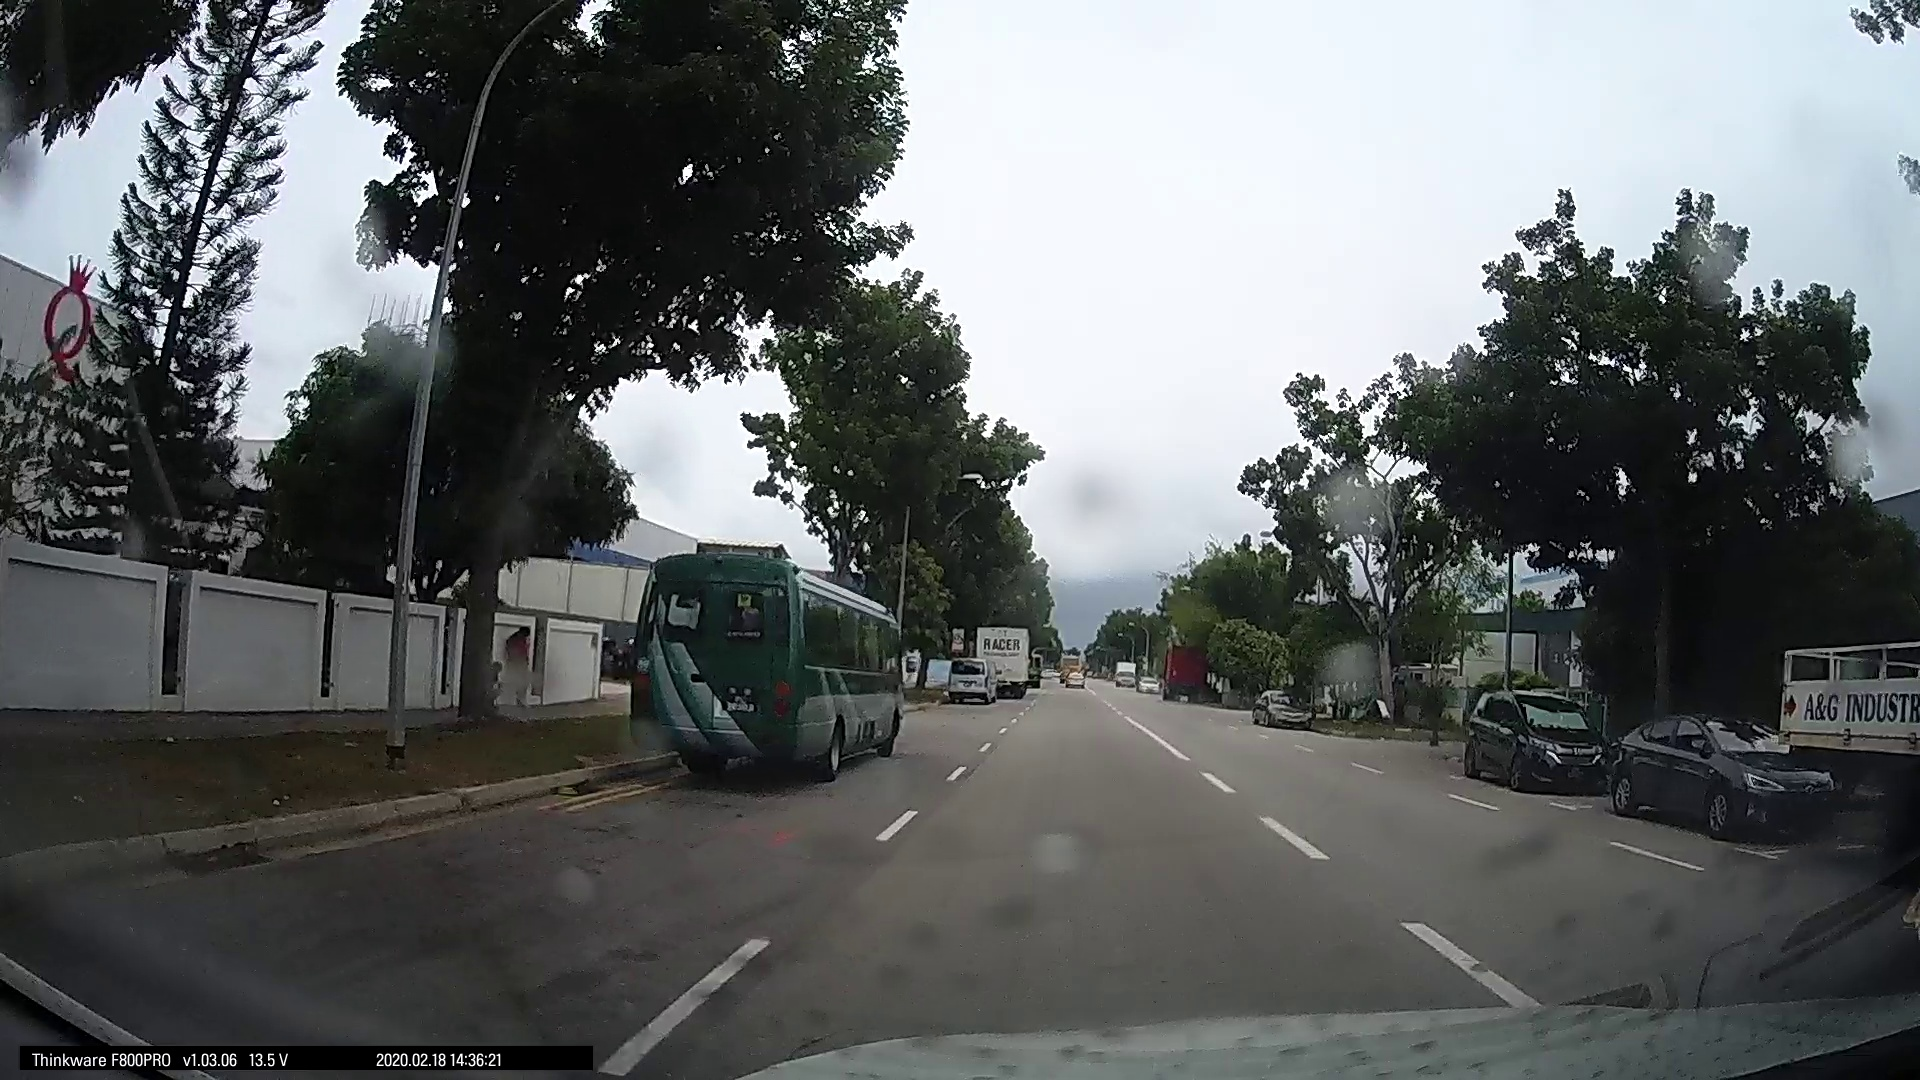Heavy Vehicle: (621, 549, 905, 785), (963, 622, 1034, 699)
Light Vehicle: (1596, 703, 1841, 839), (1453, 684, 1607, 793), (940, 651, 1001, 704), (1251, 684, 1313, 729)
